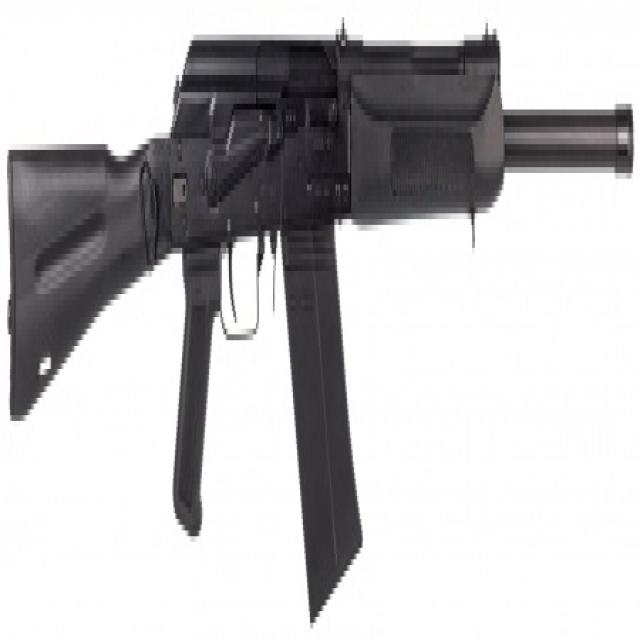rifle: (3, 17, 640, 640)
